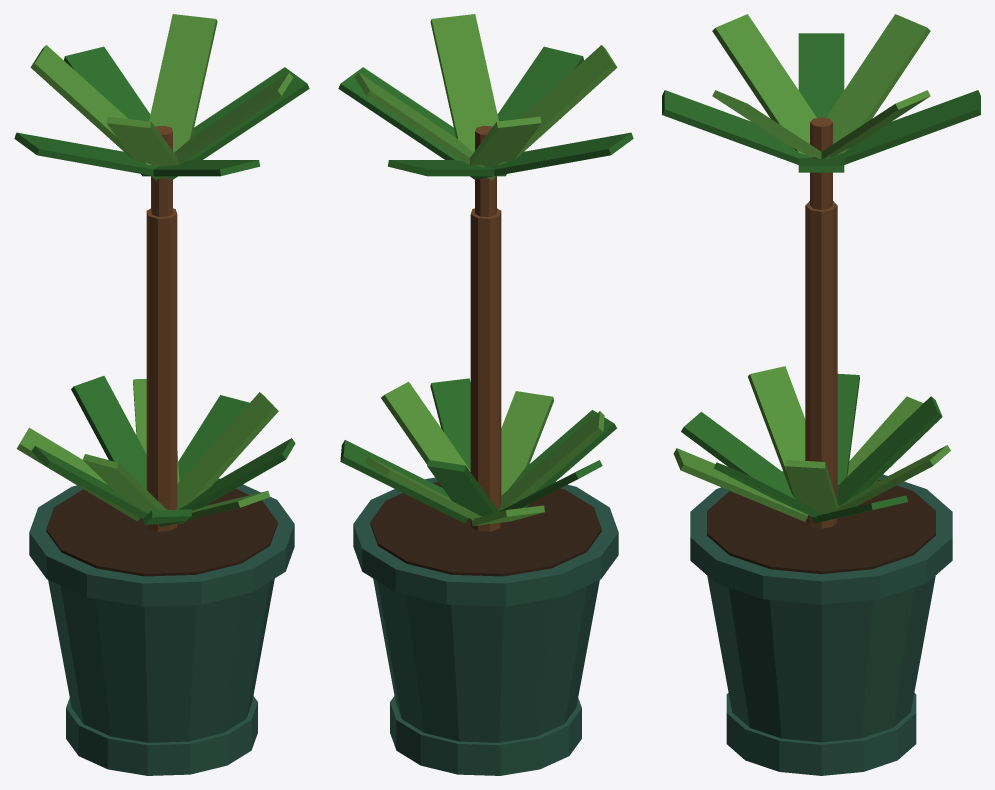
Rendered from vaso_planta.obj.
3 views of the same model, side by side, from view 1: azimuth 30°, elevation 25°; view 2: azimuth 150°, elevation 25°; view 3: azimuth 270°, elevation 25° (orthographic).
Visible parts, largest first — view 1: parte_00_ceramica_verde, parte_03_terra, parte_01_ceramica_verde, parte_04_madeira, parte_02_ceramica_verde, parte_19_folha_clara, parte_11_folha, parte_08_folha_clara, parte_21_folha_clara, parte_20_folha, parte_22_folha, parte_18_folha (+12 smaller); view 2: parte_00_ceramica_verde, parte_03_terra, parte_01_ceramica_verde, parte_04_madeira, parte_02_ceramica_verde, parte_17_folha_clara, parte_06_folha_clara, parte_23_folha_clara, parte_08_folha_clara, parte_16_folha, parte_22_folha, parte_14_folha_clara (+12 smaller); view 3: parte_00_ceramica_verde, parte_03_terra, parte_01_ceramica_verde, parte_04_madeira, parte_02_ceramica_verde, parte_21_folha_clara, parte_23_folha_clara, parte_14_folha_clara, parte_22_folha, parte_16_folha, parte_20_folha, parte_11_folha (+12 smaller).
Part boxes in pixels (bbox=[...]): parte_00_ceramica_verde: bbox=[48, 578, 274, 742]; parte_03_terra: bbox=[46, 488, 277, 576]; parte_01_ceramica_verde: bbox=[29, 478, 294, 606]; parte_04_madeira: bbox=[146, 208, 177, 531]; parte_02_ceramica_verde: bbox=[66, 696, 257, 775]; parte_19_folha_clara: bbox=[149, 14, 217, 152]; parte_11_folha: bbox=[71, 376, 146, 489]; parte_08_folha_clara: bbox=[176, 392, 278, 509]; parte_21_folha_clara: bbox=[30, 45, 155, 179]; parte_20_folha: bbox=[64, 46, 150, 175]; parte_22_folha: bbox=[14, 132, 173, 179]; parte_18_folha: bbox=[172, 67, 309, 179]; parte_00_ceramica_verde: bbox=[373, 578, 599, 742]; parte_03_terra: bbox=[370, 482, 601, 576]; parte_01_ceramica_verde: bbox=[353, 477, 618, 606]; parte_04_madeira: bbox=[470, 208, 501, 531]; parte_02_ceramica_verde: bbox=[390, 696, 581, 775]; parte_17_folha_clara: bbox=[430, 14, 498, 152]; parte_06_folha_clara: bbox=[501, 391, 553, 495]; parte_23_folha_clara: bbox=[492, 45, 617, 179]; parte_08_folha_clara: bbox=[381, 381, 470, 471]; parte_16_folha: bbox=[497, 46, 583, 175]; parte_22_folha: bbox=[474, 132, 633, 179]; parte_14_folha_clara: bbox=[498, 411, 604, 511]; parte_00_ceramica_verde: bbox=[707, 576, 935, 742]; parte_03_terra: bbox=[707, 479, 935, 574]; parte_01_ceramica_verde: bbox=[690, 471, 952, 604]; parte_04_madeira: bbox=[805, 201, 837, 528]; parte_02_ceramica_verde: bbox=[726, 693, 916, 775]; parte_21_folha_clara: bbox=[826, 14, 930, 154]; parte_23_folha_clara: bbox=[712, 14, 816, 154]; parte_14_folha_clara: bbox=[748, 366, 805, 497]; parte_22_folha: bbox=[798, 33, 844, 117]; parte_16_folha: bbox=[662, 90, 821, 172]; parte_20_folha: bbox=[821, 90, 980, 173]; parte_11_folha: bbox=[837, 396, 942, 505].
Bounding box in the file's own units: 0.5564 × 1.3 × 0.5564.
